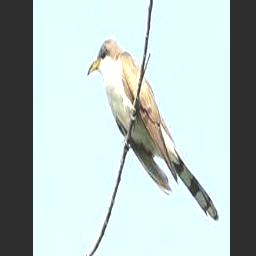Cuckoo: (88, 40, 219, 221)
